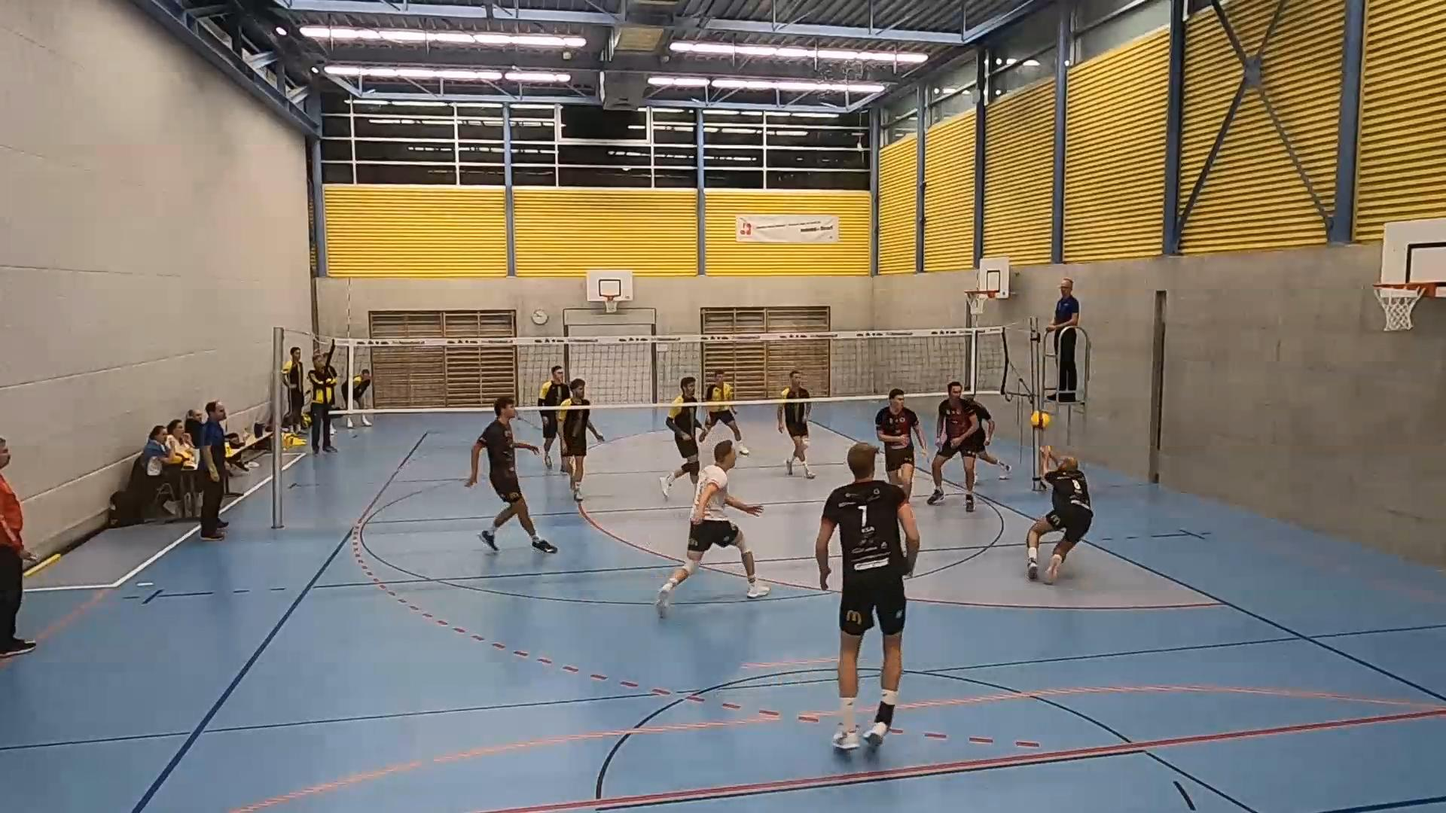difesa: (1026, 452, 1096, 587)
